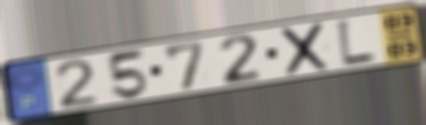2: (52, 57, 101, 111), (216, 33, 264, 87)
5: (102, 48, 150, 100)
7: (160, 40, 209, 92)
L: (333, 17, 378, 69)
X: (279, 20, 332, 78)
